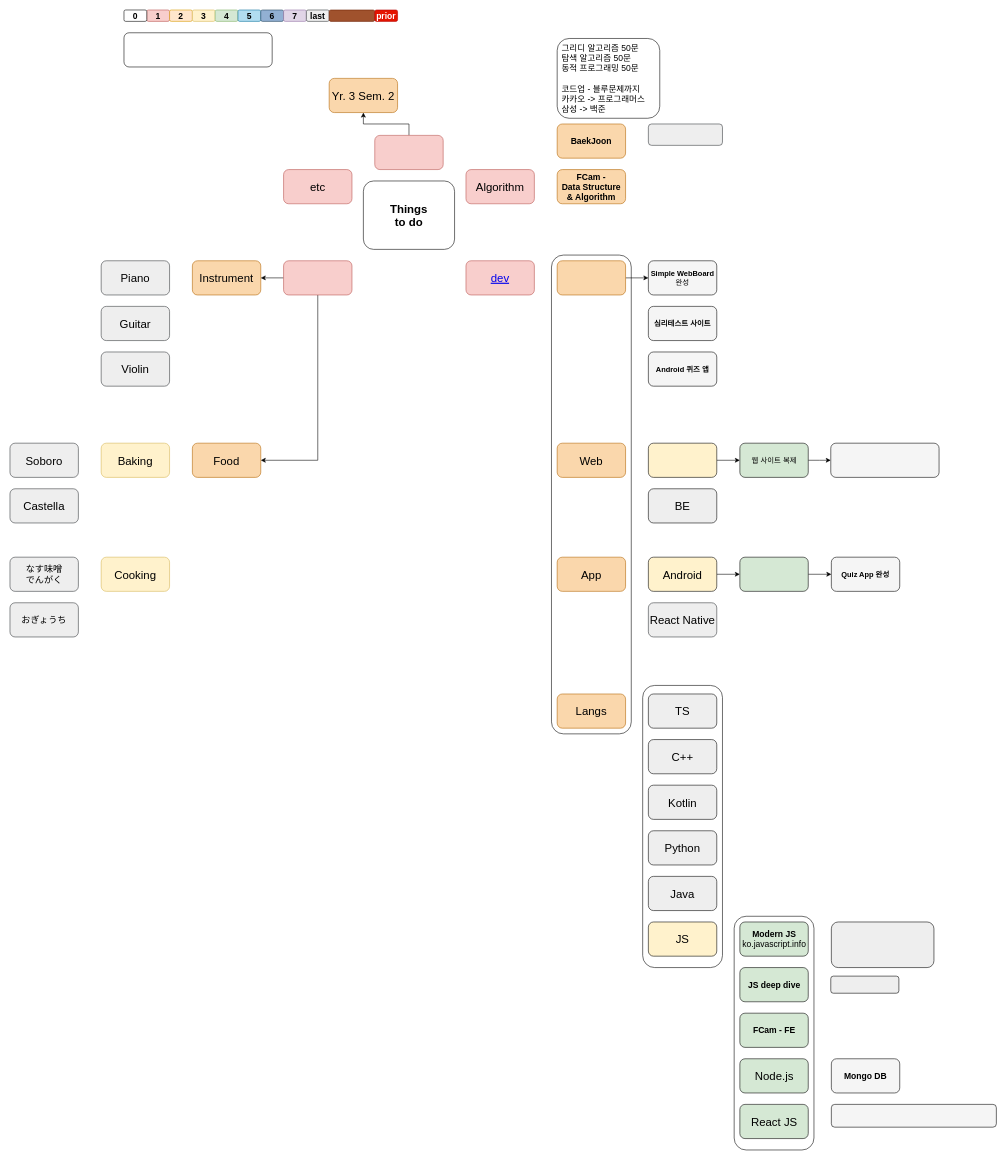
This 1007x1160 diagram has some shape labels left out. Each missing label, with the centre of its shape:
"Binary/Decimal/Hex/Octal Converter" belongs at point 884,460.
"complete" belongs at point 352,15.
"CS" belongs at point 408,152.
"FE" belongs at point 682,460.
"Hobbies" belongs at point 317,277.
"https://nomadcoders.co/nwitter/lobby" belongs at point 913,1115.
"Projects" belongs at point 591,277.
"store link" belongs at point 864,984.
"Udemy link" belongs at point 773,574.
"기억력 은 공부량 x 오랜 시간이 아닌, '짧은 시간 x 횟수 x 공부량'" belongs at point 197,49.
"단계별로 풀어보기" belongs at point 685,134.
"파트 1 : 86항목 파트 2 : 32항목 파트 3 : 49항목 총 167 항목(약 60시간)" belongs at point 882,944.
